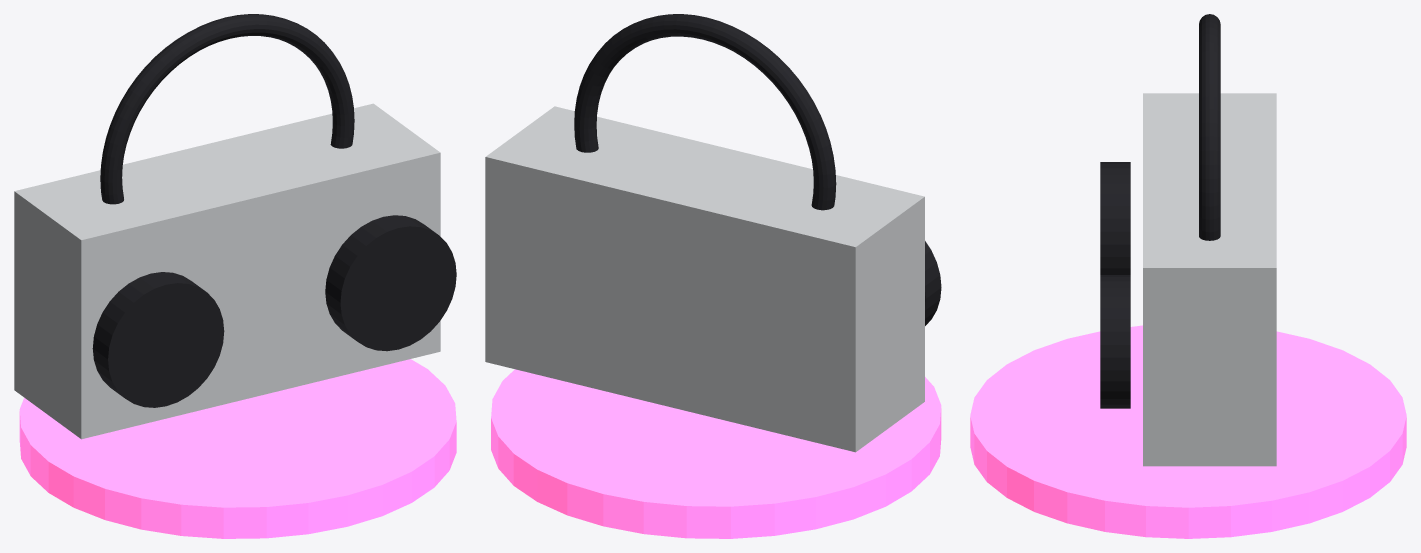
The model's file is music_boombox.glb.
The picture shows the model from 3 angles, left to right: view 1: azimuth 30°, elevation 25°; view 2: azimuth 150°, elevation 25°; view 3: azimuth 270°, elevation 25°; orthographic projection. The views are drawn at different scales.
Parts seen in each view (by area): view 1: 07_08_Popular_Music_Boombox_part_01, 07_08_Popular_Music_Boombox_ROOT_base, 07_08_Popular_Music_Boombox_part_03, 07_08_Popular_Music_Boombox_part_02, 07_08_Popular_Music_Boombox_part_04; view 2: 07_08_Popular_Music_Boombox_part_01, 07_08_Popular_Music_Boombox_ROOT_base, 07_08_Popular_Music_Boombox_part_04, 07_08_Popular_Music_Boombox_part_02; view 3: 07_08_Popular_Music_Boombox_ROOT_base, 07_08_Popular_Music_Boombox_part_01, 07_08_Popular_Music_Boombox_part_04, 07_08_Popular_Music_Boombox_part_03, 07_08_Popular_Music_Boombox_part_02.
Part boxes in pixels (left/top/right/bottom): 07_08_Popular_Music_Boombox_part_01: left=14, top=103, right=440, bottom=439; 07_08_Popular_Music_Boombox_ROOT_base: left=19, top=359, right=456, bottom=538; 07_08_Popular_Music_Boombox_part_03: left=325, top=215, right=456, bottom=351; 07_08_Popular_Music_Boombox_part_02: left=92, top=272, right=224, bottom=407; 07_08_Popular_Music_Boombox_part_04: left=100, top=14, right=354, bottom=204; 07_08_Popular_Music_Boombox_part_01: left=485, top=106, right=924, bottom=452; 07_08_Popular_Music_Boombox_ROOT_base: left=491, top=369, right=941, bottom=538; 07_08_Popular_Music_Boombox_part_04: left=574, top=14, right=836, bottom=210; 07_08_Popular_Music_Boombox_part_02: left=925, top=241, right=941, bottom=325; 07_08_Popular_Music_Boombox_ROOT_base: left=970, top=325, right=1406, bottom=538; 07_08_Popular_Music_Boombox_part_01: left=1143, top=93, right=1276, bottom=466; 07_08_Popular_Music_Boombox_part_04: left=1199, top=14, right=1220, bottom=240; 07_08_Popular_Music_Boombox_part_03: left=1100, top=275, right=1130, bottom=408; 07_08_Popular_Music_Boombox_part_02: left=1100, top=162, right=1130, bottom=274.
Bounding box in the file's own units: 0.76 × 0.8055 × 0.76.
